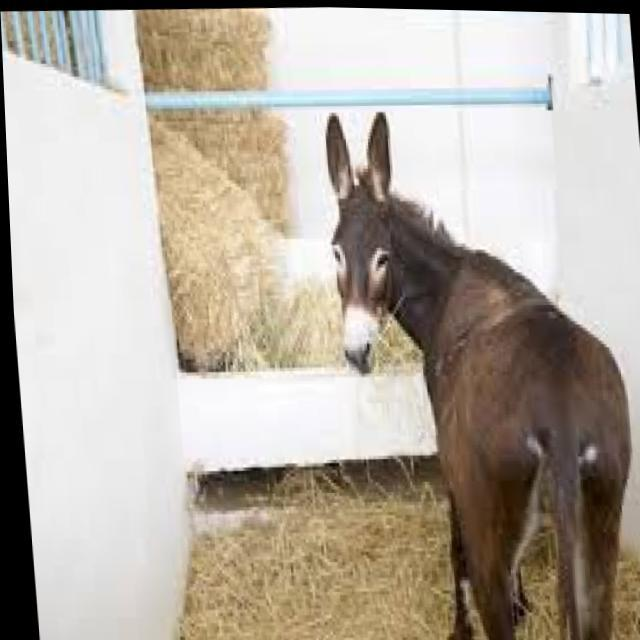Donkey: (277, 64, 640, 640), (291, 76, 438, 391)
